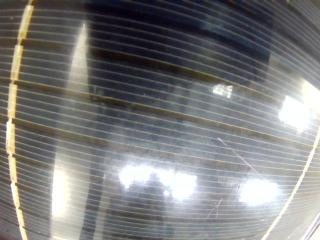crack: (207, 198, 223, 218)
scratch: (218, 138, 268, 182)
